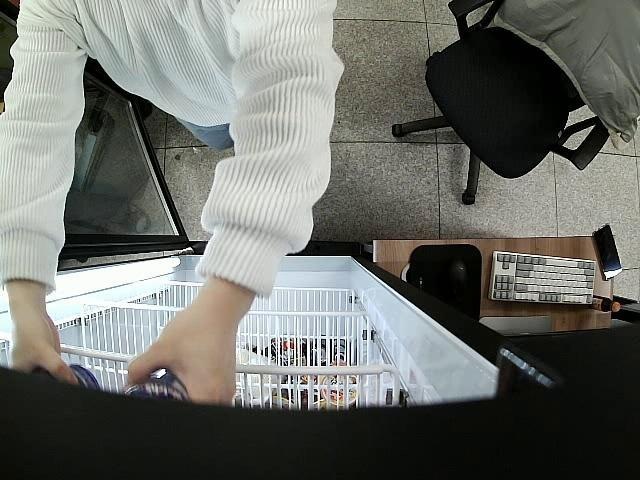14_welchsGrape: (127, 370, 192, 404), (39, 364, 102, 398)
